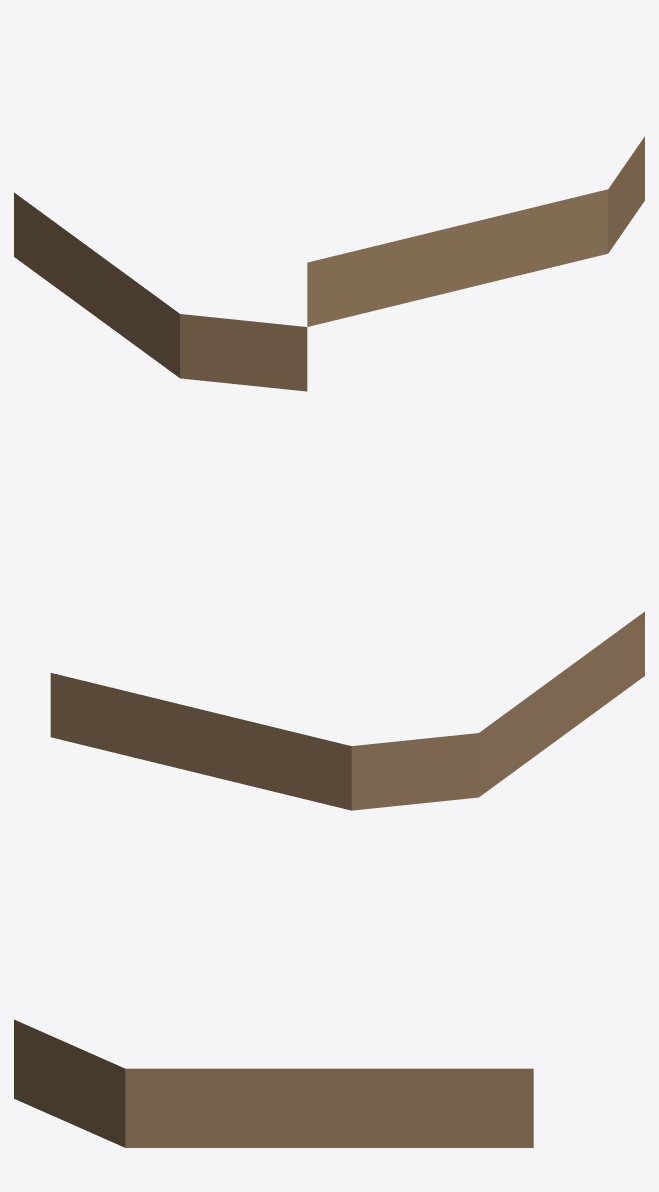
Rendered from 1394-Buildings-shell-pieces-facade-bay-wall-round-an-opening-reveals-sill-head-emitBa.glb.
The picture shows the model from 3 angles, top to bottom: view 1: azimuth 30°, elevation 25°; view 2: azimuth 150°, elevation 25°; view 3: azimuth 270°, elevation 25°; orthographic projection. The views are drawn at different scales.
Parts seen in each view (by area): view 1: emitBay; view 2: emitBay; view 3: emitBay.
Part boxes in pixels (<box>): emitBay: <box>14,136,644,391</box>; emitBay: <box>50,611,644,810</box>; emitBay: <box>14,1019,533,1147</box>.
Bounding box in the file's own units: 23 × 6.1 × 22.
